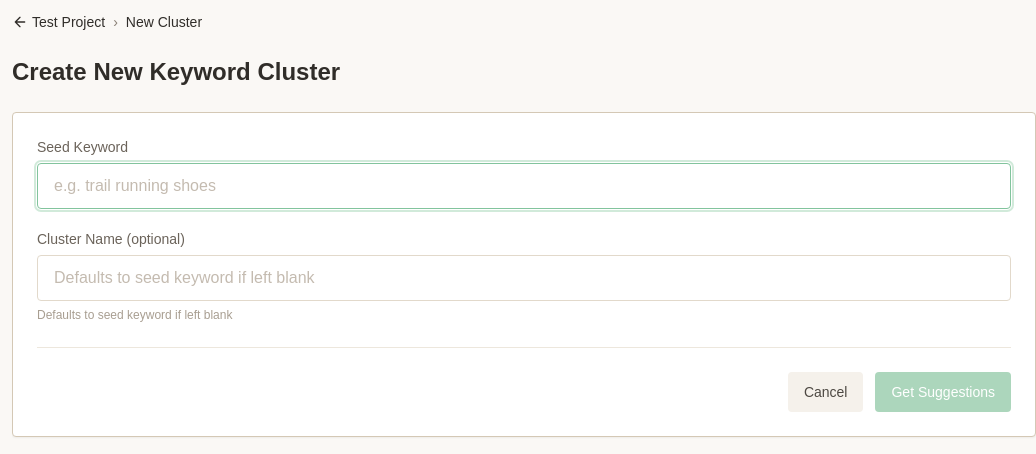
Test case: NewClusterPage › validation › Get Suggestions button is enabled when seed keyword is 2+ characters
Step 1. Type "ab" into the field labelled "Seed Keyword" → (524, 186), box [37, 163, 1011, 209]
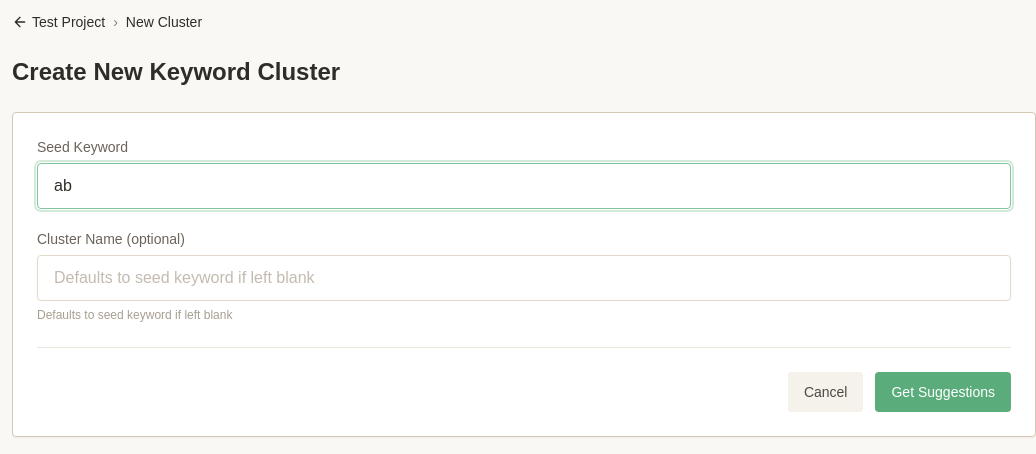
Expected: the button "Get Suggestions" is enabled, [876, 372, 1011, 412]
